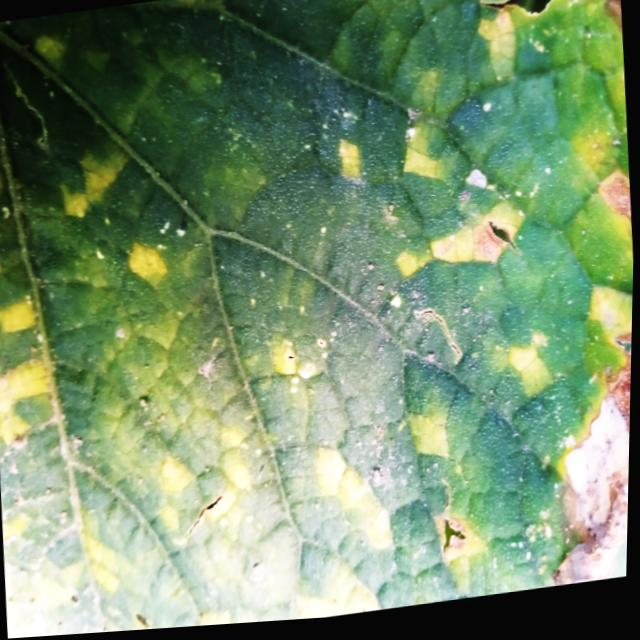Downy-Mildew: (0, 0, 634, 639)
